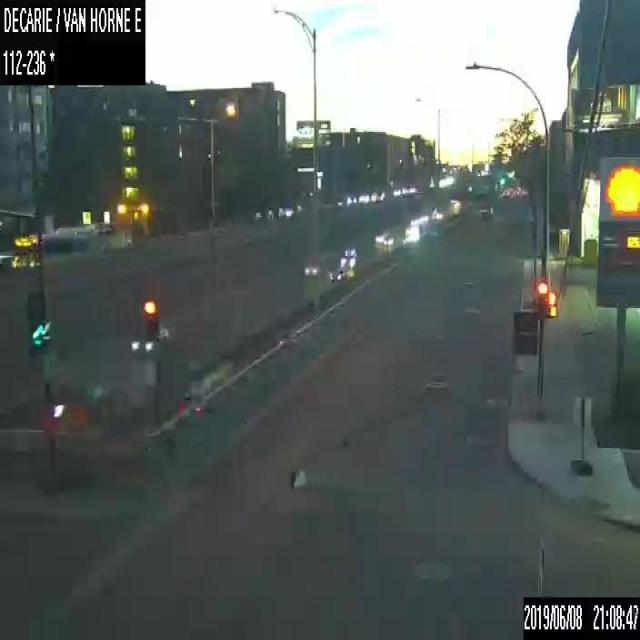bus: (12, 232, 38, 267)
construction: (572, 392, 592, 474)
vehicle: (127, 326, 168, 354), (254, 204, 273, 220), (303, 262, 320, 278), (327, 266, 344, 281), (479, 201, 492, 216), (340, 255, 354, 268), (344, 244, 355, 257), (383, 234, 392, 246), (501, 188, 510, 197)
